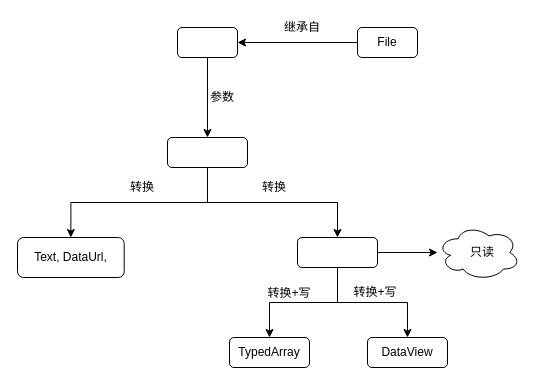
This 538x385 diagram has some shape labels left out. The shapes that lost their labels are listed below. From the top down, each one's centre as x and y in pixels, then its label:
At [207,42]: "Blob".
At [207,152]: "FileReader".
At [337,252]: "ArrayBuffer".
